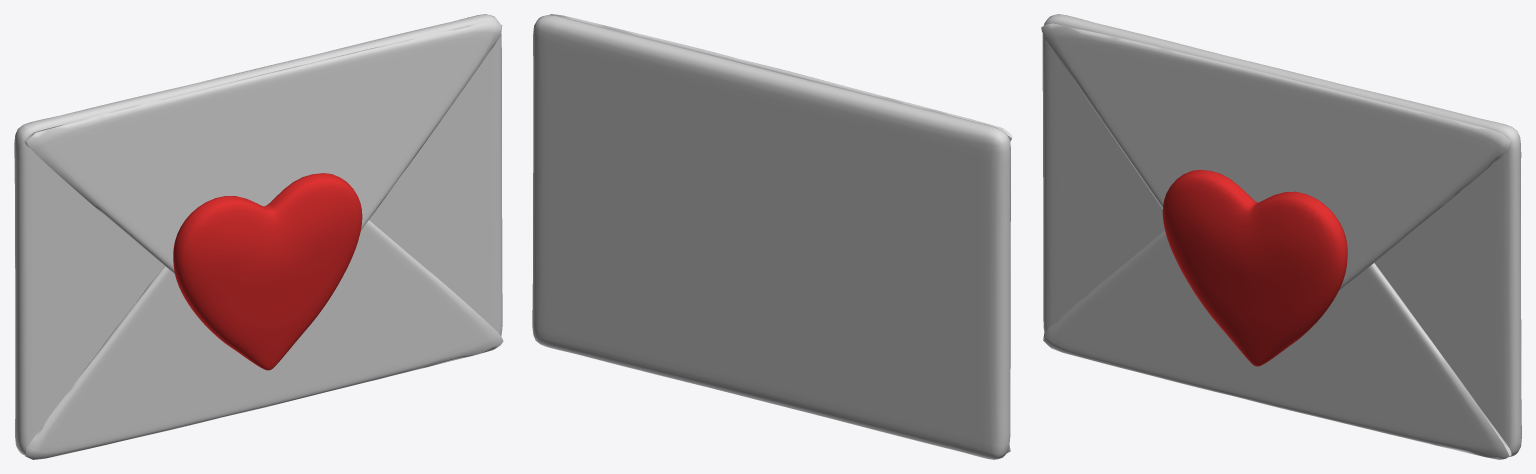
The model's file is envelope with heart FBX.glb.
3 renders of one model, left to right at view 1: azimuth 30°, elevation 25°; view 2: azimuth 150°, elevation 25°; view 3: azimuth 330°, elevation 25°, orthographic.
Parts seen in each view (by area): view 1: E2, envelope, E3, Group8879; view 2: envelope, E2; view 3: E2, envelope, E3, Group8879.
Boxes of the visible parts, x1=… form: E2: x1=24, y1=21, x2=502, y2=273; envelope: x1=14, y1=14, x2=502, y2=455; E3: x1=25, y1=220, x2=503, y2=459; Group8879: x1=173, y1=173, x2=362, y2=370; envelope: x1=532, y1=15, x2=1010, y2=459; E2: x1=549, y1=14, x2=1012, y2=141; E2: x1=1041, y1=23, x2=1510, y2=291; envelope: x1=1042, y1=14, x2=1521, y2=456; E3: x1=1043, y1=230, x2=1511, y2=459; Group8879: x1=1162, y1=169, x2=1347, y2=366.
Size of the model in its own units: 0.9237 by 0.6143 by 0.123.
